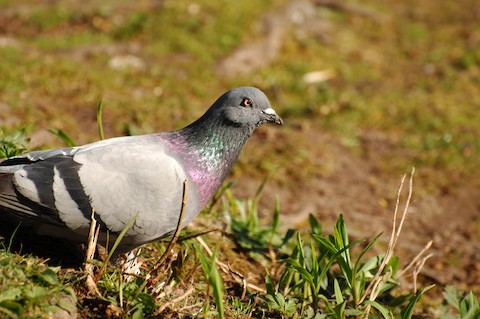pigeon: (4, 85, 287, 282)
